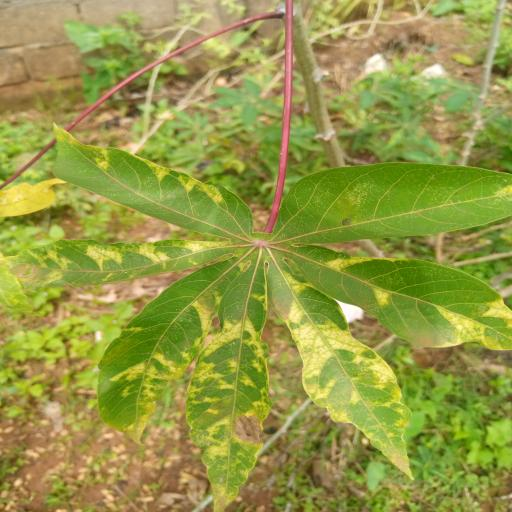Cassava_Mosaic: (5, 123, 512, 512)
